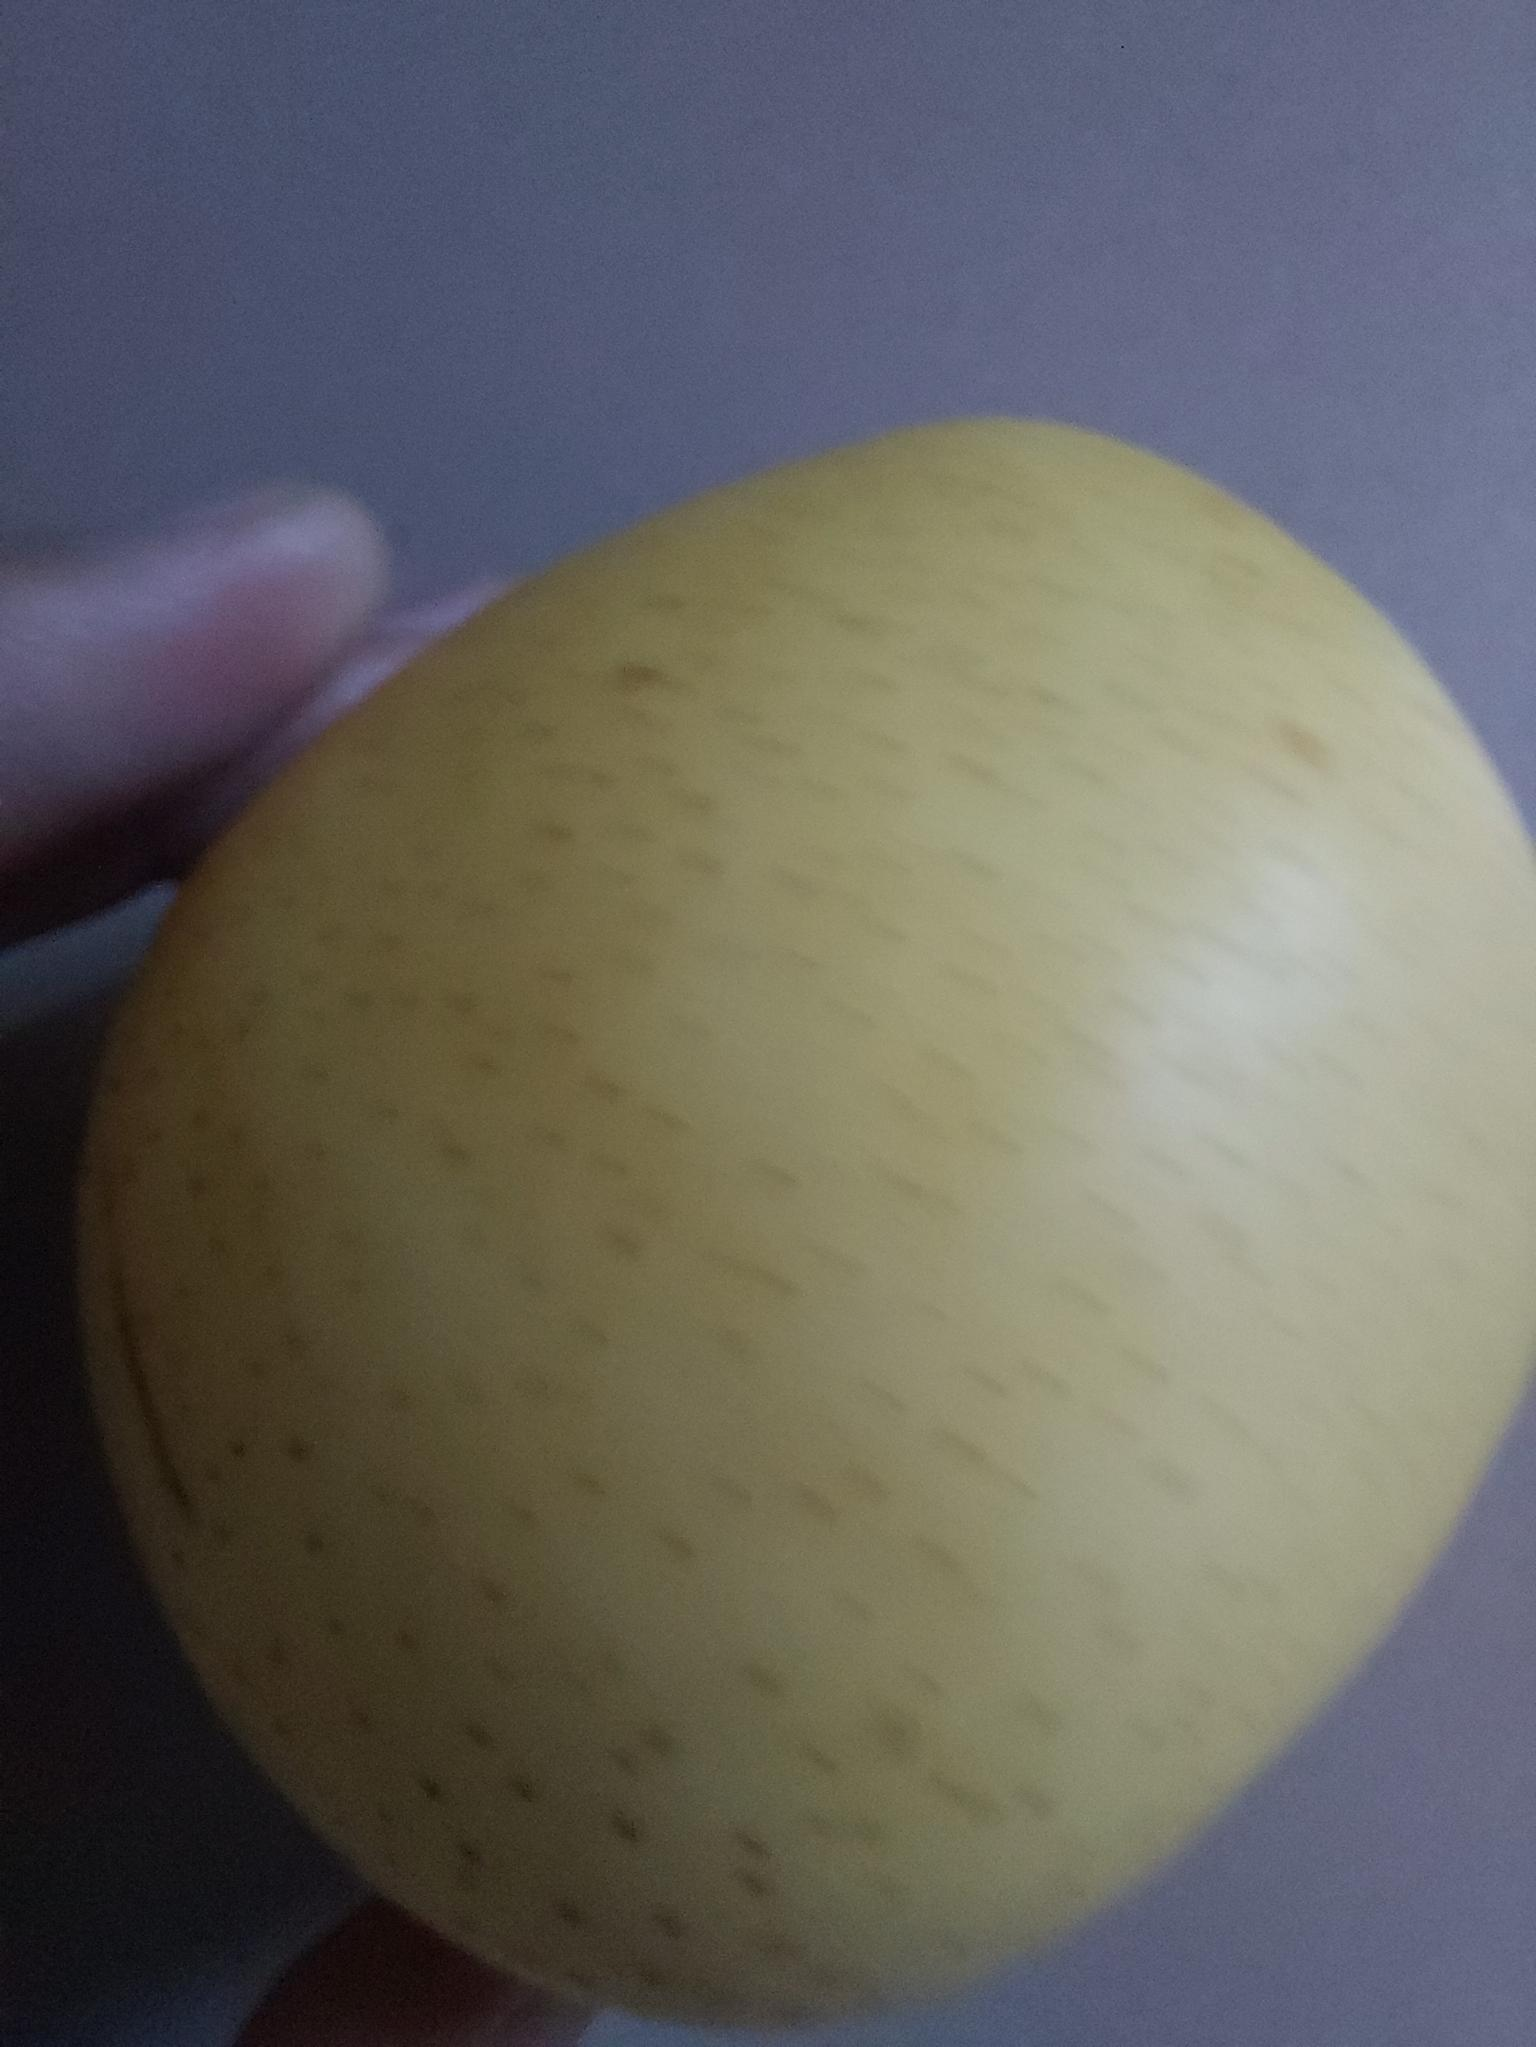Good Pear: (56, 418, 1536, 2047)
